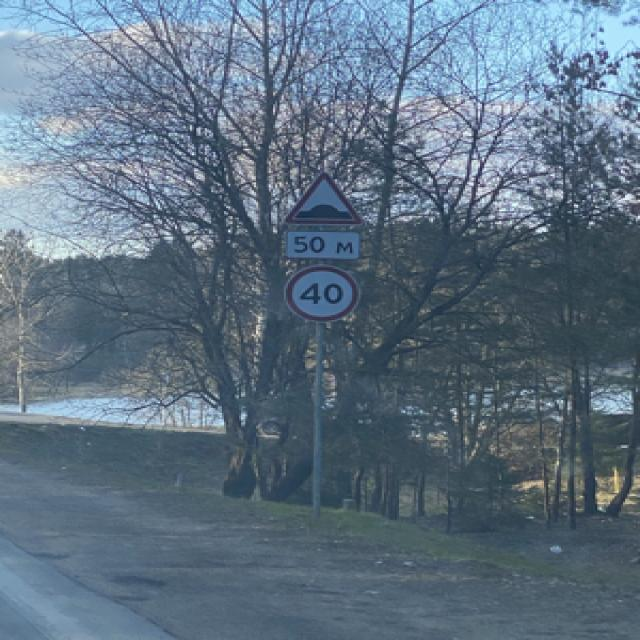speedlimit: (282, 264, 354, 318)
